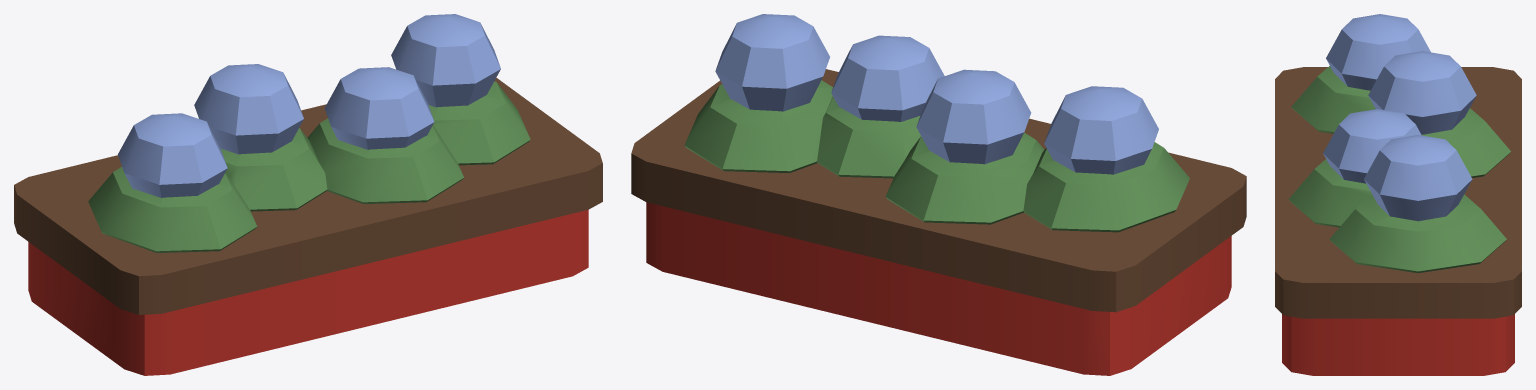
File: hydrangea-box.glb
The picture shows the model from 3 angles, left to right: view 1: azimuth 30°, elevation 25°; view 2: azimuth 150°, elevation 25°; view 3: azimuth 270°, elevation 25°; orthographic projection. The views are drawn at different scales.
Parts seen in each view (by area): view 1: hydrangea-box; view 2: hydrangea-box; view 3: hydrangea-box.
Part boxes in pixels (box(x1,y1,x2,y2)): hydrangea-box: box(14, 14, 602, 375); hydrangea-box: box(631, 14, 1246, 375); hydrangea-box: box(1275, 14, 1521, 375).
Bounding box in the file's own units: 3.62 × 1.57 × 1.75.
Materials: 2 (2 with a texture image).
